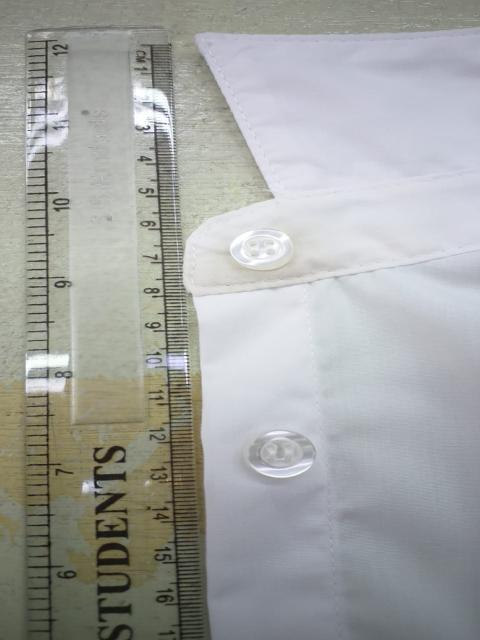Dirty_mark: (213, 263, 321, 287)
